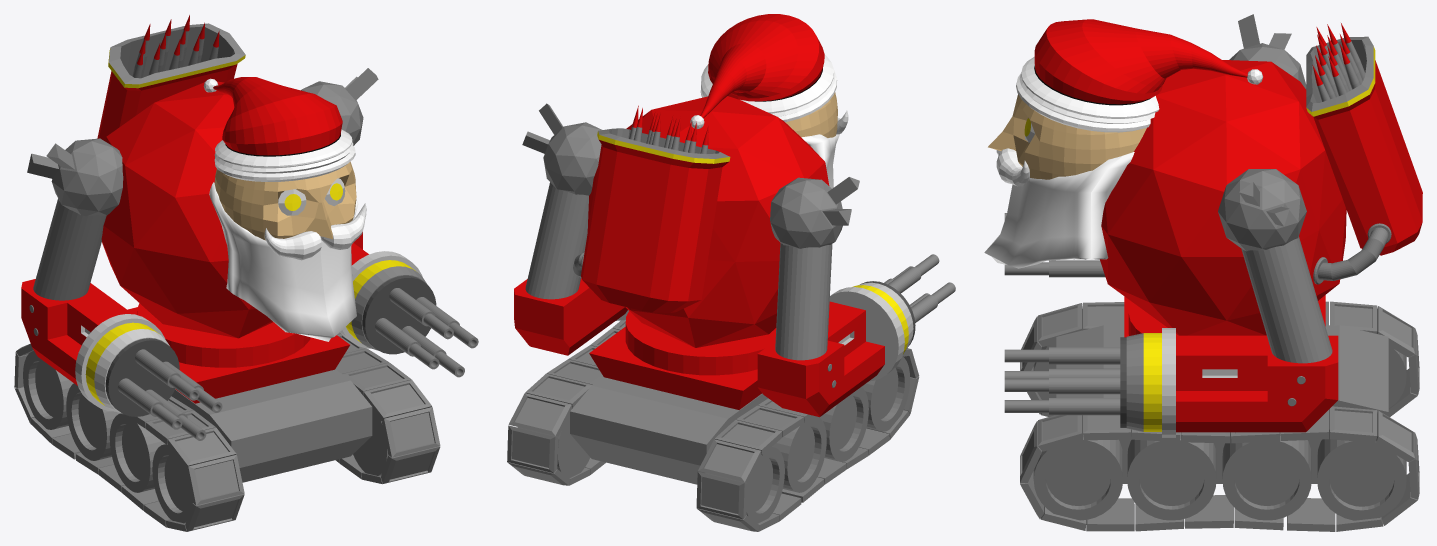
File: santa.fbx
3 renders of one model, left to right at view 1: azimuth 30°, elevation 25°; view 2: azimuth 150°, elevation 25°; view 3: azimuth 270°, elevation 25°, orthographic. The views are drawn at different scales.
Parts seen in each view (by area): view 1: 큐브.003, 큐브.002, 구체.001, 원형.004, 큐브.001, 큐브, 큐브.006, 구체, 실린더.008, 실린더.014, 실린더.003, 실린더.005 (+3 smaller); view 2: 큐브.003, 큐브.006, 큐브.002, 원형.004, 큐브.001, 큐브, 실린더.007, 실린더.003, 실린더.004, 실린더.005, 실린더.014, 구체 (+2 smaller); view 3: 큐브.003, 원형.004, 큐브, 큐브.006, 구체.001, 실린더.008, 큐브.002, 큐브.001, 실린더.002, 실린더.006, 구체, 실린더.001 (+4 smaller).
Boxes of the visible parts, x1,y1,x2,y2 form: 큐브.003: (21,68,427,413); 큐브.002: (171,369,372,482); 구체.001: (209,182,366,341); 원형.004: (203,77,355,181); 큐브.001: (14,343,244,531); 큐브: (335,332,440,484); 큐브.006: (97,23,245,141); 구체: (214,162,356,240); 실린더.008: (362,275,478,377); 실린더.014: (105,338,222,440); 실린더.003: (109,413,165,492); 실린더.005: (23,350,73,429); 큐브.003: (514,96,913,417); 큐브.006: (581,128,730,312); 큐브.002: (570,377,768,484); 원형.004: (690,14,837,128); 큐브.001: (696,348,919,531); 큐브: (507,320,625,485); 실린더.007: (772,416,826,492); 실린더.003: (819,387,868,461); 실린더.004: (861,357,909,431); 실린더.005: (705,447,784,523); 실린더.014: (860,254,955,346); 구체: (777,92,837,137); 큐브.003: (1100,14,1346,437); 원형.004: (1016,19,1262,132); 큐브: (1020,406,1419,531); 큐브.006: (1306,36,1422,255); 구체.001: (984,148,1134,268); 실린더.008: (1004,337,1126,427); 큐브.002: (1056,325,1388,483); 큐브.001: (1020,301,1419,417); 실린더.002: (1127,432,1216,520); 실린더.006: (1222,432,1311,520); 구체: (988,94,1150,179); 실린더.001: (1317,429,1406,520).
Size of the model in its own units: 1530 by 1709 by 1543.
